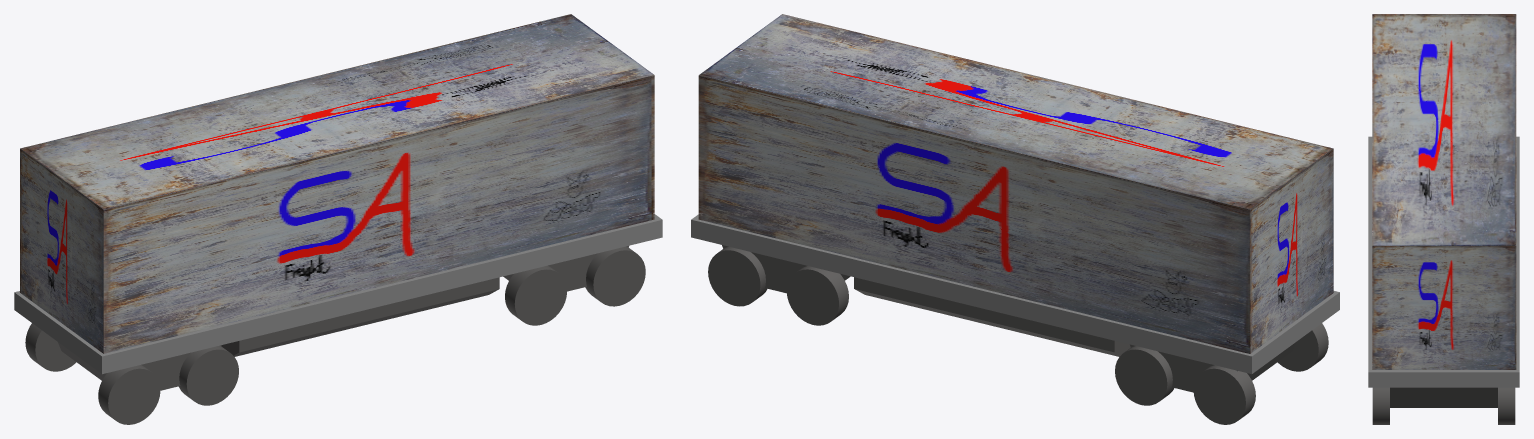
The model's file is traincar3.glb.
The picture shows the model from 3 angles, left to right: view 1: azimuth 30°, elevation 25°; view 2: azimuth 150°, elevation 25°; view 3: azimuth 270°, elevation 25°; orthographic projection. The views are drawn at different scales.
Visible parts, largest first — view 1: Cube.001, Cube, Cylinder, Cube.003, Cube.005; view 2: Cube.001, Cube, Cylinder, Cube.003, Cube.005; view 3: Cube.001, Cube, Cube.005, Cylinder.
Boxes of the visible parts, x1,y1,x2,y2 form: Cube.001: [20, 14, 654, 353]; Cube: [14, 214, 662, 374]; Cylinder: [25, 246, 645, 424]; Cube.003: [221, 277, 499, 356]; Cube.005: [58, 246, 628, 390]; Cube.001: [698, 14, 1333, 353]; Cube: [691, 214, 1339, 374]; Cylinder: [708, 246, 1328, 424]; Cube.003: [854, 277, 1130, 356]; Cube.005: [722, 245, 1296, 392]; Cube.001: [1372, 14, 1516, 369]; Cube: [1368, 136, 1519, 387]; Cube.005: [1390, 387, 1497, 407]; Cylinder: [1372, 387, 1515, 424].
Size of the model in its own units: 21.39 by 8.11 by 5.8.
Materials: 3 (1 with a texture image).
